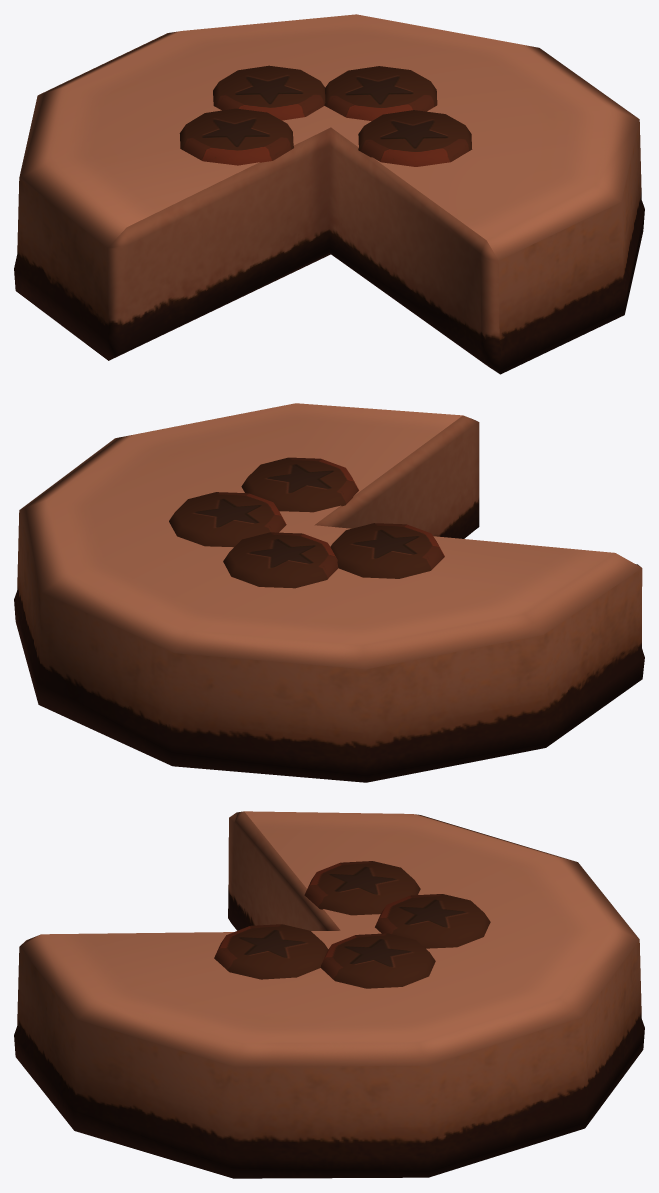
File: Chocolate_Cheesecake_Cut.fbx
3 renders of one model, top to bottom at view 1: azimuth 30°, elevation 25°; view 2: azimuth 150°, elevation 25°; view 3: azimuth 270°, elevation 25°, orthographic.
Parts seen in each view (by area): view 1: Chocolate_Cheesecake_Cut; view 2: Chocolate_Cheesecake_Cut; view 3: Chocolate_Cheesecake_Cut.
Part boxes in pixels (x1,y1,x2,y2): Chocolate_Cheesecake_Cut: (14,14,644,374); Chocolate_Cheesecake_Cut: (14,403,644,782); Chocolate_Cheesecake_Cut: (14,811,644,1178).
Bounding box in the file's own units: 79.53 × 19.33 × 82.4.
